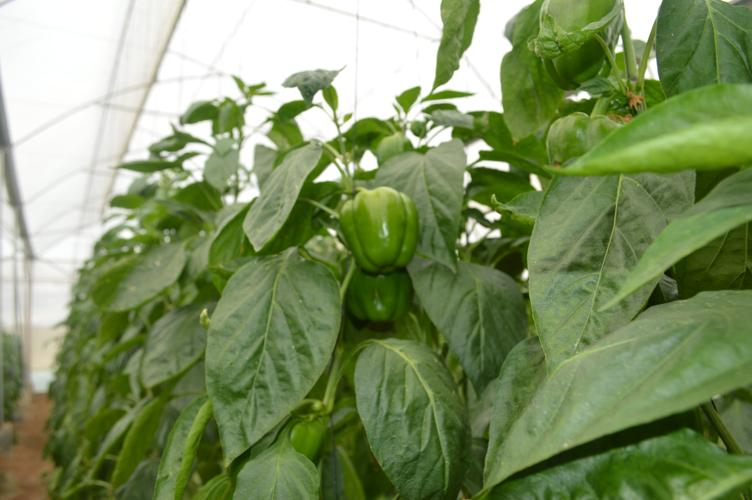BellPepper: (333, 185, 427, 271), (337, 262, 419, 334)
